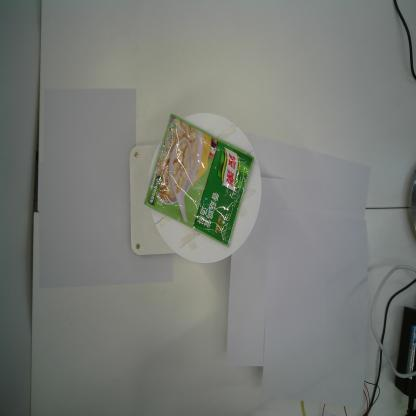Seasoner: (144, 113, 254, 248)
